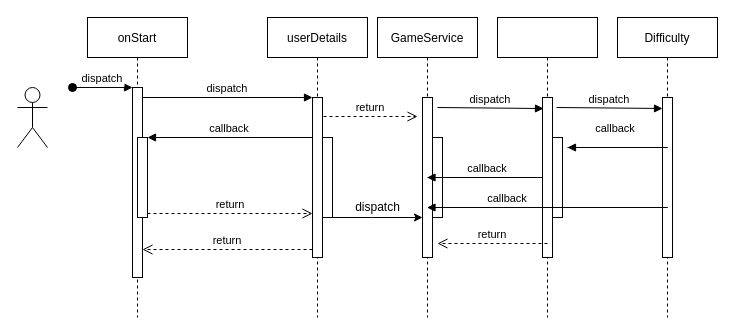
The diagram is 735 pixels wide and 335 high, and some of its shapes have lost their labels. Here are the shapes that lost their labels. From the top down, the centre of each, then its label:
At (x=32, y=117): "Actor".
At (x=547, y=167): "Scoring".
